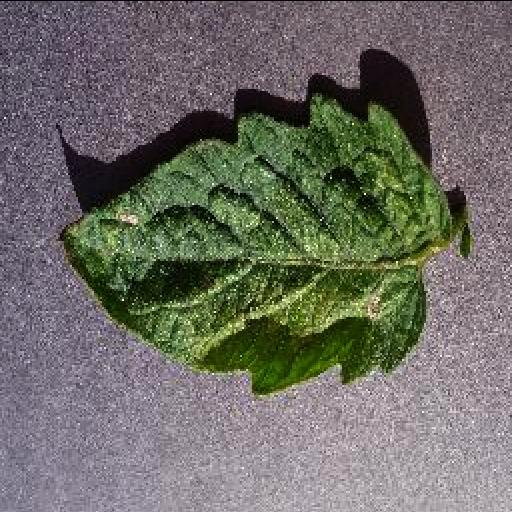disease_tomato: (54, 96, 454, 392)
